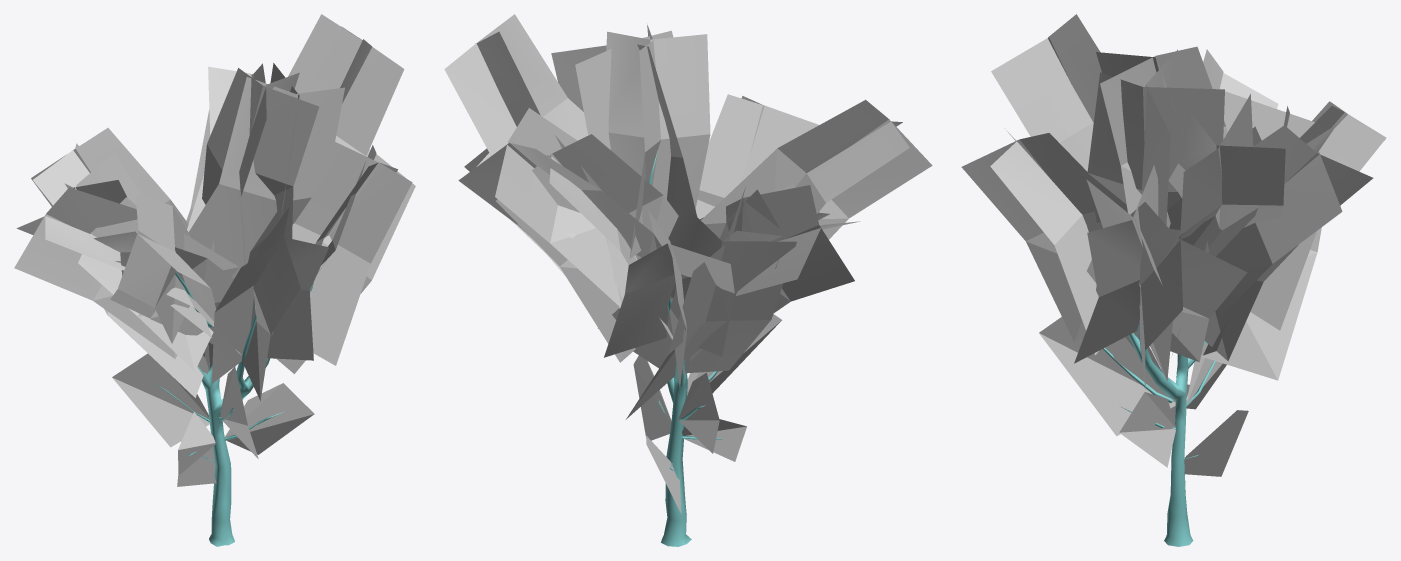
File: tree01.fbx
3 renders of one model, left to right at view 1: azimuth 30°, elevation 25°; view 2: azimuth 150°, elevation 25°; view 3: azimuth 270°, elevation 25°, orthographic. The views are drawn at different scales.
Visible parts, largest first — view 1: Tree01.002, Tree01, Bark.001; view 2: Tree01.002, Tree01, Bark.001; view 3: Tree01.002, Tree01, Bark.001.
Part boxes in pixels (x1=…): Tree01.002: x1=14, y1=14, x2=415, y2=400; Tree01: x1=112, y1=343, x2=314, y2=486; Bark.001: x1=155, y1=270, x2=313, y2=546; Tree01.002: x1=444, y1=14, x2=932, y2=419; Tree01: x1=633, y1=314, x2=781, y2=513; Bark.001: x1=648, y1=135, x2=723, y2=546; Tree01.002: x1=961, y1=14, x2=1386, y2=389; Tree01: x1=1039, y1=317, x2=1248, y2=476; Bark.001: x1=1102, y1=322, x2=1215, y2=546.
Bounding box in the file's own units: 1089 × 1273 × 947.
